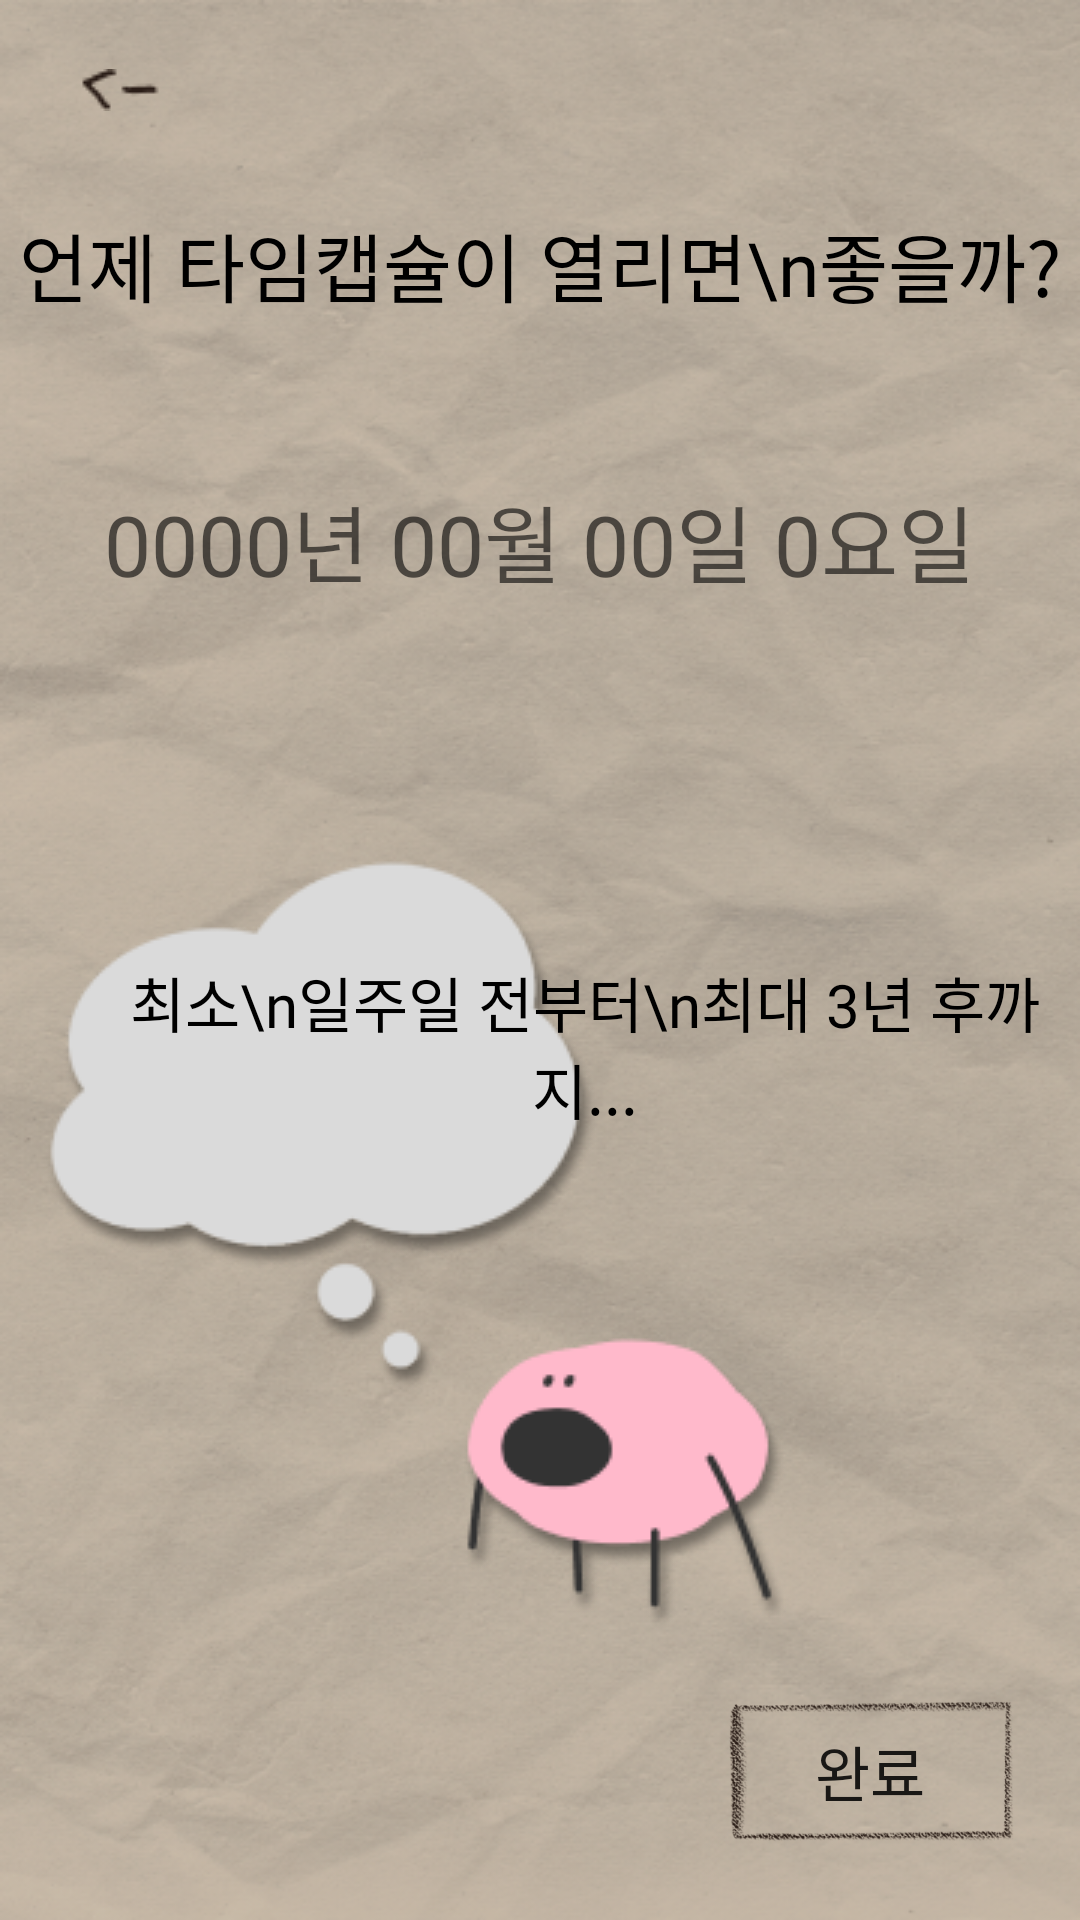

Icons on this 1080px x 1920px Android screen, each with its box as (x1, y1, x2, y2):
leftarrow: (82, 69, 158, 111)
